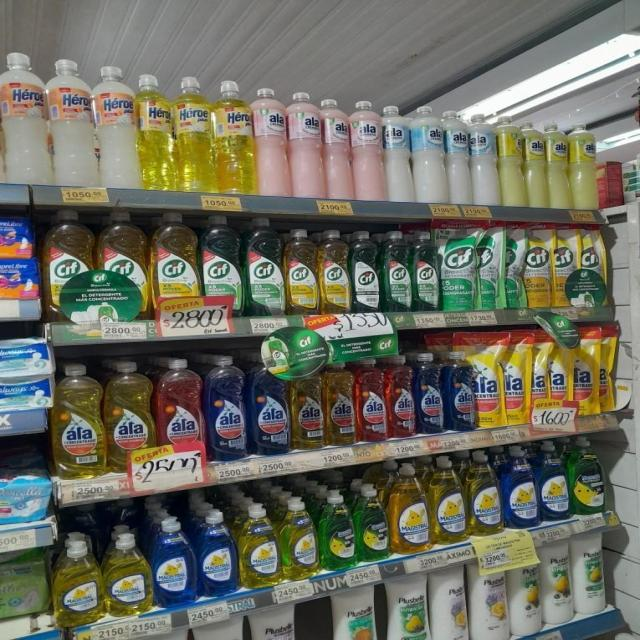ala_conc_amarillo: (51, 362, 105, 479), (107, 360, 154, 475), (291, 369, 324, 450), (325, 361, 355, 446)
ala_conc_azul: (206, 354, 248, 461), (250, 355, 290, 456), (445, 350, 475, 432), (416, 351, 444, 435)
ala_conc_rojo: (157, 357, 204, 471), (356, 357, 386, 443), (387, 354, 415, 439)
ala_crem_amarillo: (570, 123, 599, 210), (547, 122, 569, 209), (525, 121, 546, 208)
ala_crem_blanco: (413, 106, 445, 204), (384, 104, 412, 203), (471, 112, 498, 206), (446, 109, 471, 205), (250, 602, 298, 640), (195, 614, 248, 640), (164, 627, 193, 640)
ala_crem_rosado: (289, 92, 323, 200), (255, 88, 288, 198), (352, 100, 383, 203), (324, 98, 351, 201)
ala_sachet_amarillo: (475, 336, 503, 428), (504, 339, 530, 425), (550, 341, 572, 425), (531, 340, 550, 426)
cif_conc_bot_amarilla: (96, 209, 148, 322), (43, 209, 93, 322), (151, 211, 199, 321), (285, 228, 317, 315), (318, 229, 349, 314)
cif_conc_botella_verde: (201, 214, 242, 320), (244, 216, 283, 316), (350, 230, 380, 313), (381, 230, 411, 312), (412, 230, 440, 312)
cif_conc_sachet_amarillo: (576, 226, 609, 308), (524, 225, 552, 308), (553, 226, 576, 308), (504, 224, 524, 308)
cif_conc_sachet_verde: (441, 227, 476, 311), (477, 226, 502, 310)
heroe: (1, 51, 48, 186), (49, 58, 96, 188), (96, 65, 138, 189)
magistral_con_amarillo: (53, 534, 102, 626), (104, 530, 150, 616), (391, 462, 429, 554), (240, 503, 280, 588), (431, 456, 466, 544), (282, 496, 318, 580), (468, 450, 502, 536)
magistral_con_azul: (153, 516, 195, 607), (198, 509, 237, 597), (503, 444, 538, 528), (538, 440, 570, 522)
magistral_con_crema: (0, 548, 49, 620), (573, 532, 607, 616)
